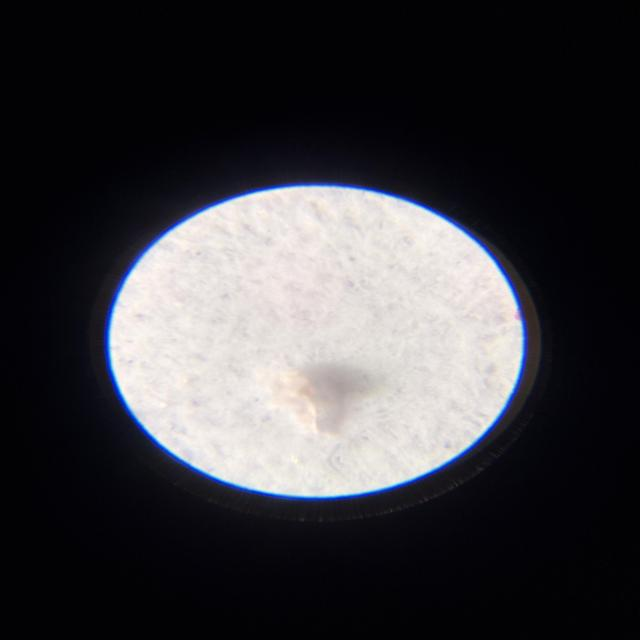microplastic_type_1: (254, 363, 332, 435)
